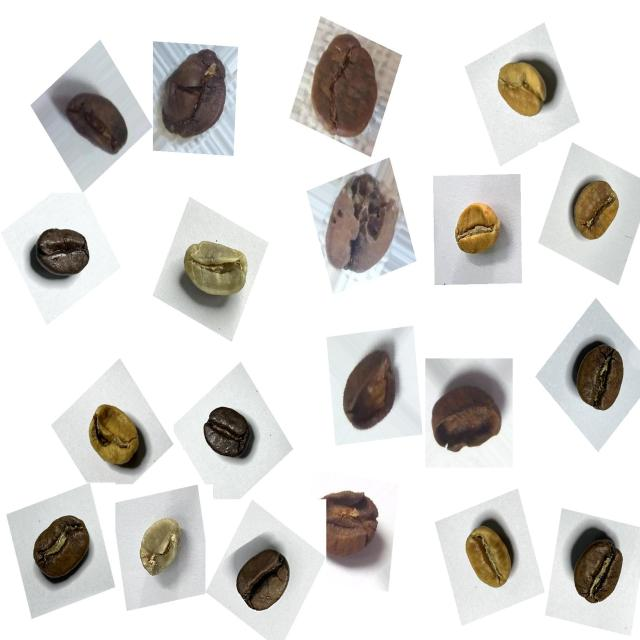bad: (304, 20, 391, 145), (315, 166, 407, 283), (154, 40, 241, 154), (426, 360, 514, 469), (330, 335, 407, 441), (315, 481, 393, 577), (56, 79, 134, 168)
dark: (226, 536, 299, 624), (22, 214, 98, 292), (196, 394, 262, 471)
green: (172, 228, 258, 318), (128, 506, 193, 589)
light: (452, 512, 524, 604), (489, 47, 563, 132), (80, 393, 153, 478), (560, 170, 631, 256), (442, 190, 510, 271)
medium: (562, 526, 637, 620), (23, 506, 99, 594), (565, 334, 637, 426)
